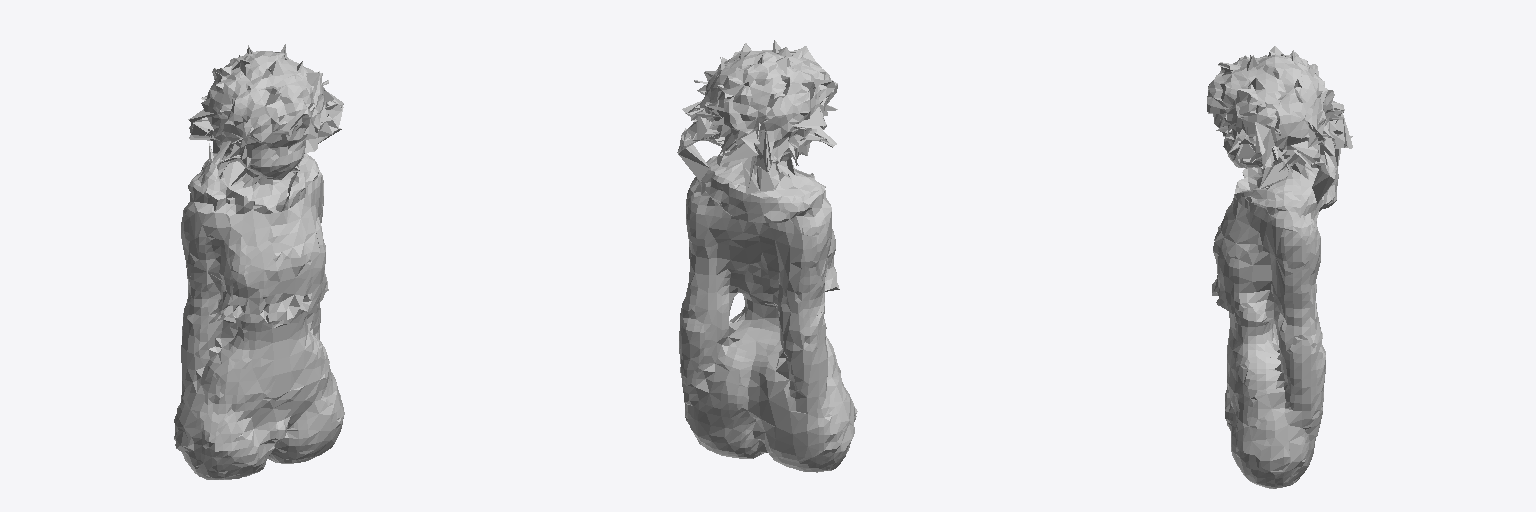
File: statue.obj
3 renders of one model, left to right at view 1: azimuth 30°, elevation 25°; view 2: azimuth 150°, elevation 25°; view 3: azimuth 270°, elevation 25°, orthographic.
Parts seen in each view (by area): view 1: mesh_0; view 2: mesh_0; view 3: mesh_0.
Part boxes in pixels (left/top/right/bottom): mesh_0: left=174, top=44, right=344, bottom=479; mesh_0: left=677, top=40, right=857, bottom=472; mesh_0: left=1207, top=46, right=1352, bottom=488.
Size of the model in its own units: 2.02 by 4.98 by 1.61.